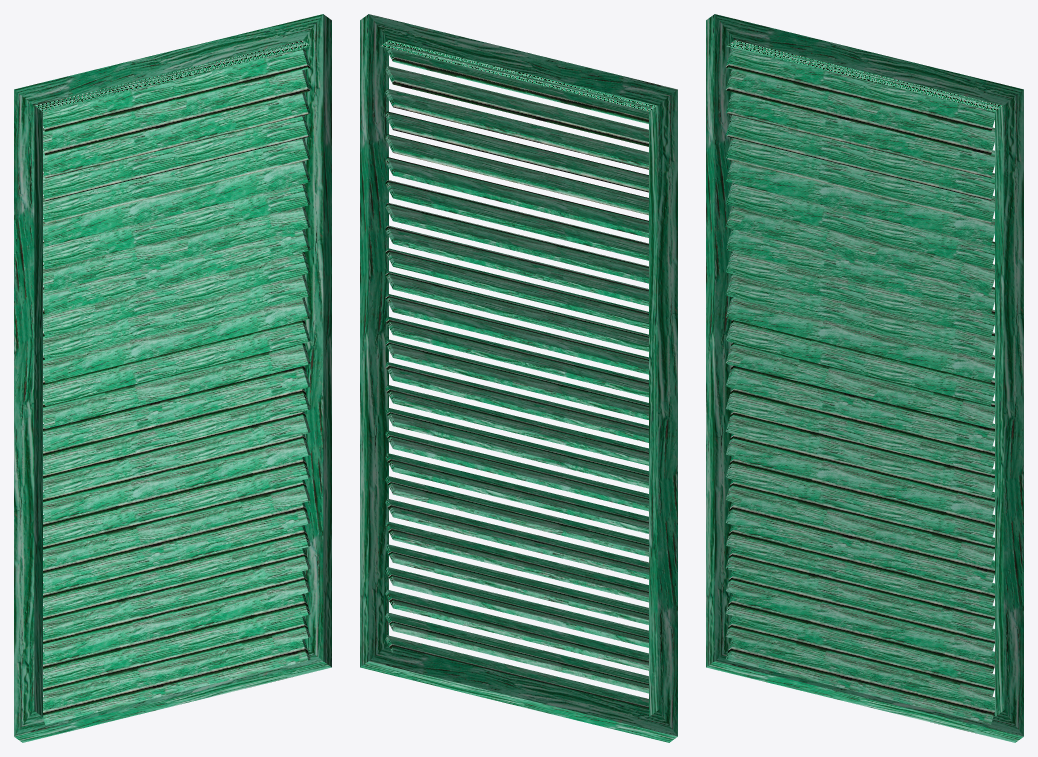
The model's file is Blind.gltf.
3 views of the same model, side by side, from view 1: azimuth 30°, elevation 25°; view 2: azimuth 150°, elevation 25°; view 3: azimuth 330°, elevation 25° (orthographic).
Visible parts, largest first — view 1: Cube.015; view 2: Cube.015; view 3: Cube.015.
Boxes of the visible parts, x1,y1,x2,y2 form: Cube.015: (14, 14, 331, 742); Cube.015: (360, 14, 677, 742); Cube.015: (706, 14, 1023, 742).
Bounding box in the file's own units: 1.07 × 2.14 × 0.0672.
1 material, 1 textured.
